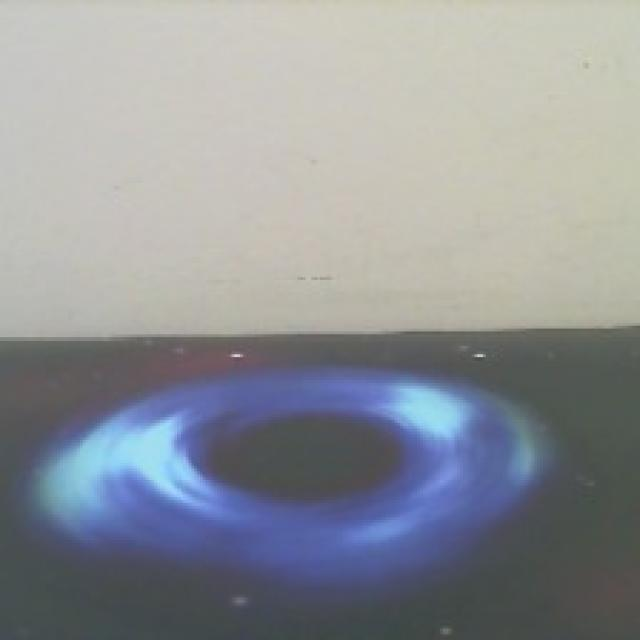Black Hole: (32, 371, 548, 576)
